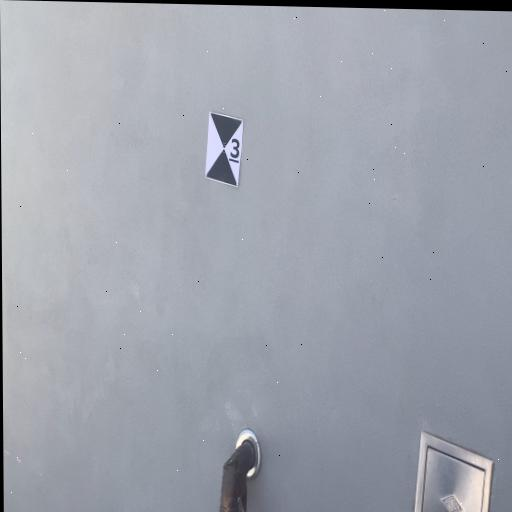target3: (204, 109, 244, 189)
